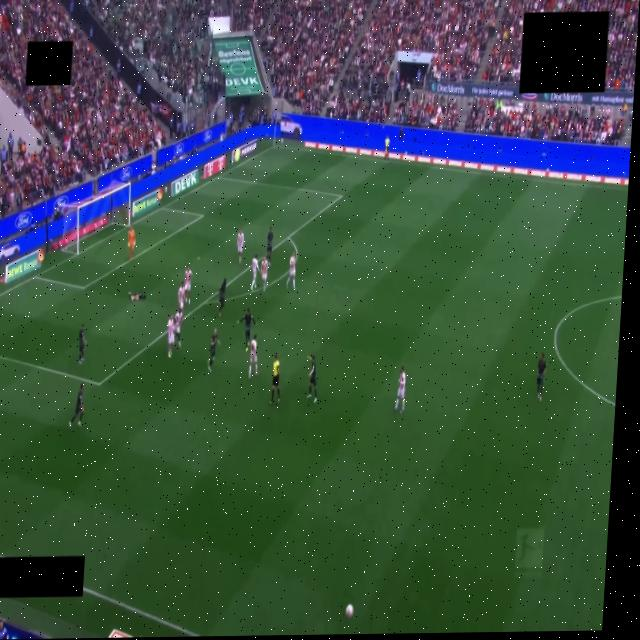ball: (345, 604, 354, 618)
player: (238, 308, 256, 350), (69, 383, 84, 427), (394, 366, 407, 412), (307, 355, 317, 402), (208, 330, 219, 372), (248, 335, 258, 379), (537, 353, 546, 401), (249, 254, 260, 291), (286, 251, 296, 290), (167, 314, 175, 357), (78, 324, 86, 364), (174, 309, 182, 348), (184, 266, 192, 304), (219, 278, 226, 316), (261, 258, 269, 291), (266, 228, 273, 265), (128, 228, 135, 261), (237, 230, 244, 263), (177, 283, 185, 310), (128, 293, 145, 301)
referee: (270, 356, 280, 404)
